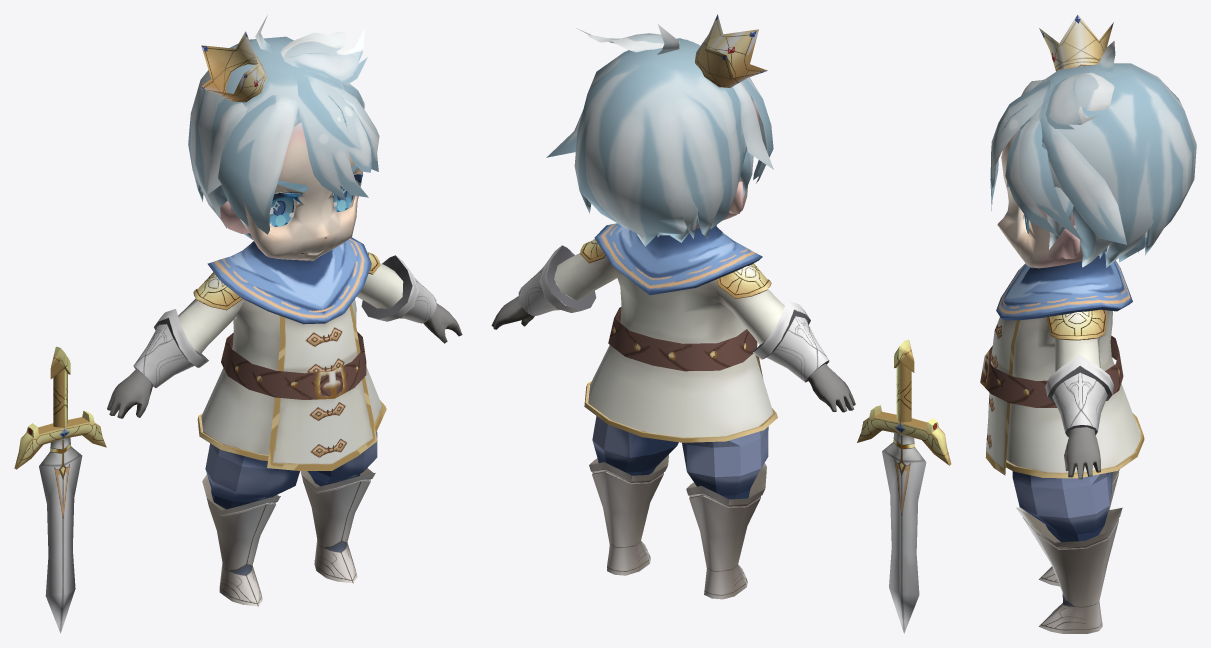
File: zhanshi1.FBX
3 renders of one model, left to right at view 1: azimuth 30°, elevation 25°; view 2: azimuth 150°, elevation 25°; view 3: azimuth 270°, elevation 25°, orthographic. The views are drawn at different scales.
Visible parts, largest first — view 1: zhanshi_shangyi, zhanshi_toufa, zhanshi_xiezi, zhanshi_jian, zhanshi_lian, zhanshi_xiashen, zhanshi_fashi, zhanshi_yanjing; view 2: zhanshi_shangyi, zhanshi_toufa, zhanshi_xiezi, zhanshi_jian, zhanshi_xiashen, zhanshi_fashi; view 3: zhanshi_toufa, zhanshi_shangyi, zhanshi_xiezi, zhanshi_xiashen, zhanshi_lian, zhanshi_fashi.
Part boxes in pixels (<box>): zhanshi_shangyi: <box>107,237,462,470</box>; zhanshi_toufa: <box>188,15,379,240</box>; zhanshi_xiezi: <box>202,468,375,606</box>; zhanshi_jian: <box>14,346,106,633</box>; zhanshi_lian: <box>220,122,362,260</box>; zhanshi_xiashen: <box>205,431,377,509</box>; zhanshi_fashi: <box>199,31,267,102</box>; zhanshi_yanjing: <box>269,186,353,226</box>; zhanshi_shangyi: <box>491,223,855,442</box>; zhanshi_toufa: <box>546,24,773,246</box>; zhanshi_xiezi: <box>589,454,766,599</box>; zhanshi_jian: <box>857,339,951,633</box>; zhanshi_xiashen: <box>592,416,768,499</box>; zhanshi_fashi: <box>695,14,767,87</box>; zhanshi_toufa: <box>990,41,1196,267</box>; zhanshi_shangyi: <box>980,251,1144,479</box>; zhanshi_xiezi: <box>1016,469,1122,633</box>; zhanshi_xiashen: <box>1012,471,1112,542</box>; zhanshi_lian: <box>997,128,1082,268</box>; zhanshi_fashi: <box>1039,14,1113,71</box>.
Size of the model in its own units: 90.9 by 109 by 37.75.
Materials: 9 (9 with a texture image).
